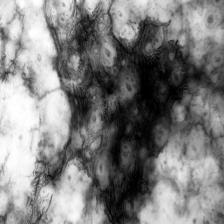Benign Marking or Mole: (53, 10, 205, 224)
